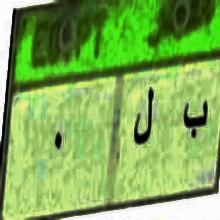0: (52, 120, 66, 164)
baa: (176, 93, 210, 149)
laam: (132, 77, 157, 149)
